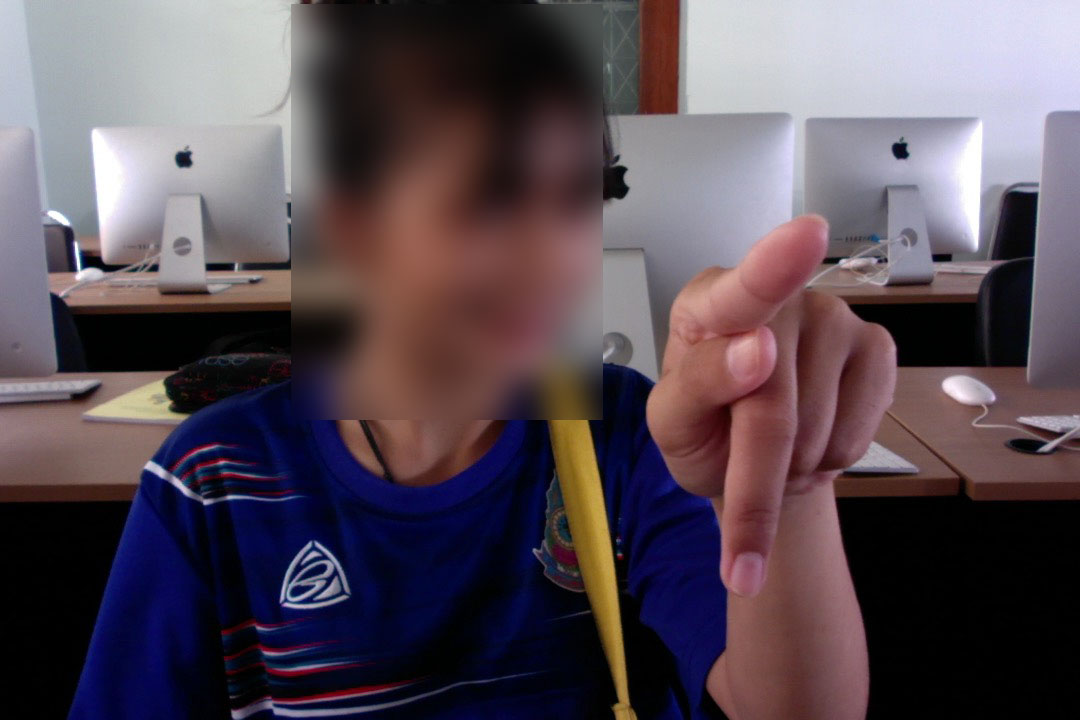por: (642, 205, 902, 603)
